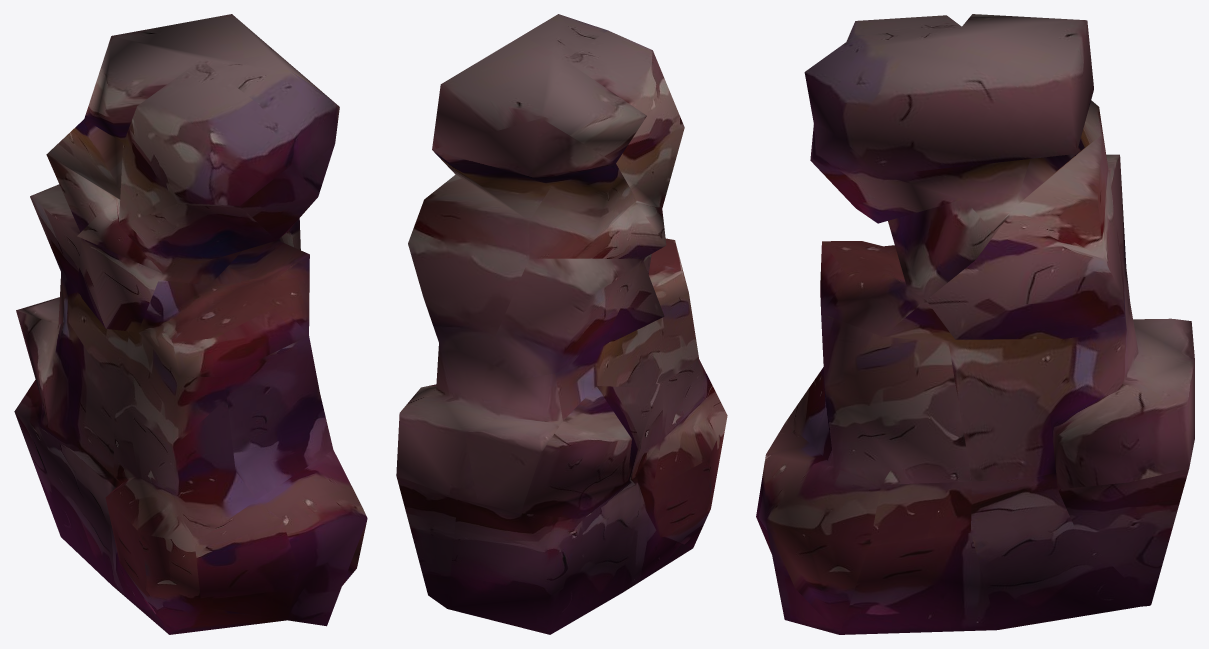
File: cave-slab.glb
The picture shows the model from 3 angles, left to right: view 1: azimuth 30°, elevation 25°; view 2: azimuth 150°, elevation 25°; view 3: azimuth 270°, elevation 25°; orthographic projection. The views are drawn at different scales.
Parts seen in each view (by area): view 1: tripo_node_0cd493c7-381b-481a-a5d3-832fbe854310; view 2: tripo_node_0cd493c7-381b-481a-a5d3-832fbe854310; view 3: tripo_node_0cd493c7-381b-481a-a5d3-832fbe854310.
Part boxes in pixels (<box>): tripo_node_0cd493c7-381b-481a-a5d3-832fbe854310: <box>14,14,367,634</box>; tripo_node_0cd493c7-381b-481a-a5d3-832fbe854310: <box>396,14,727,634</box>; tripo_node_0cd493c7-381b-481a-a5d3-832fbe854310: <box>756,14,1194,634</box>.
Bounding box in the file's own units: 0.4281 × 0.9818 × 0.6789.
Materials: 1 (1 with a texture image).
